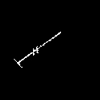treble_crochet: (17, 32, 60, 64)
